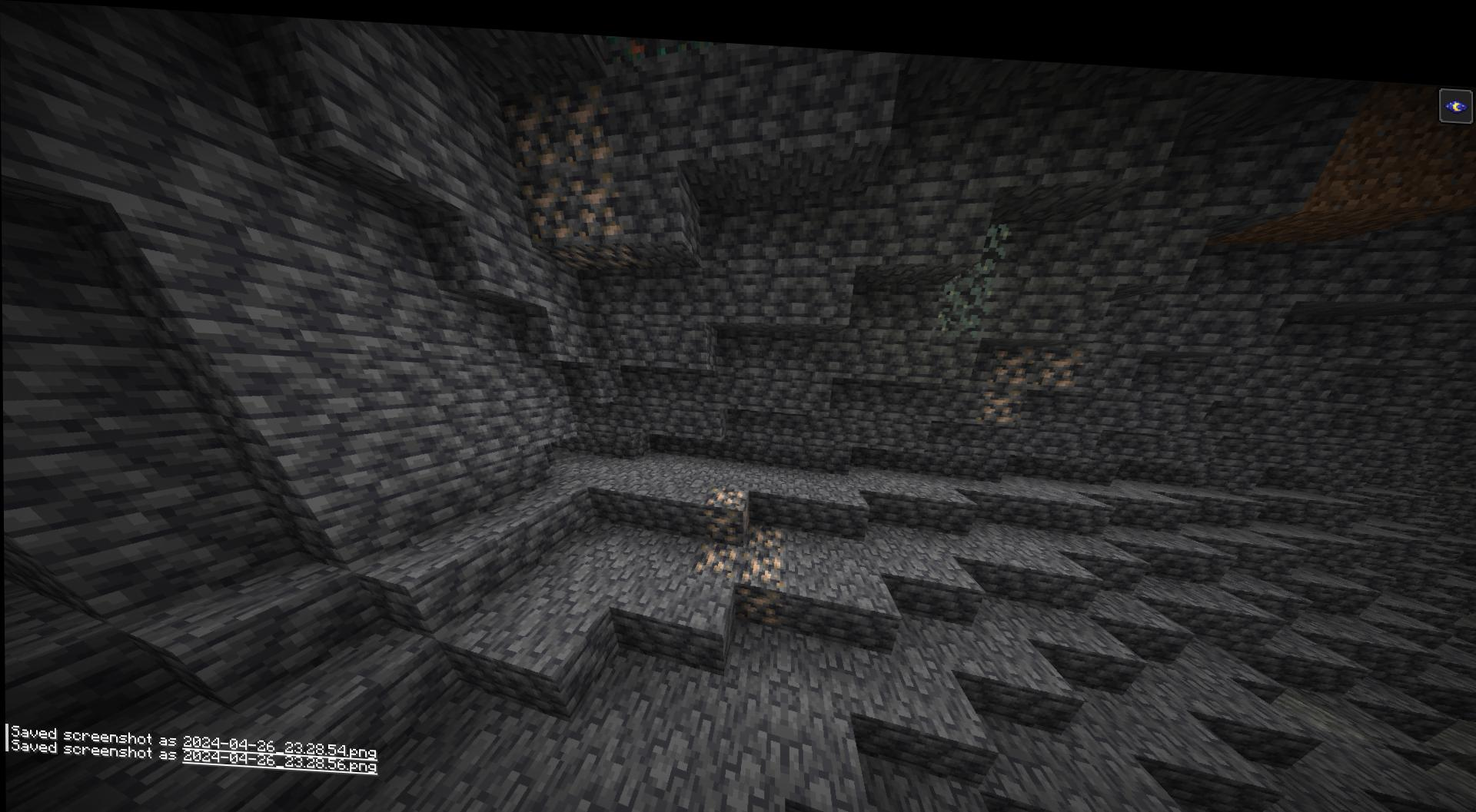iron ore: (559, 83, 620, 163), (508, 93, 565, 171), (564, 164, 629, 231), (512, 173, 577, 235), (546, 231, 644, 265), (704, 478, 749, 531), (990, 329, 1032, 375), (695, 530, 736, 576), (977, 375, 1017, 418), (1036, 338, 1076, 380), (740, 572, 772, 616), (739, 542, 778, 577), (751, 513, 777, 541)
